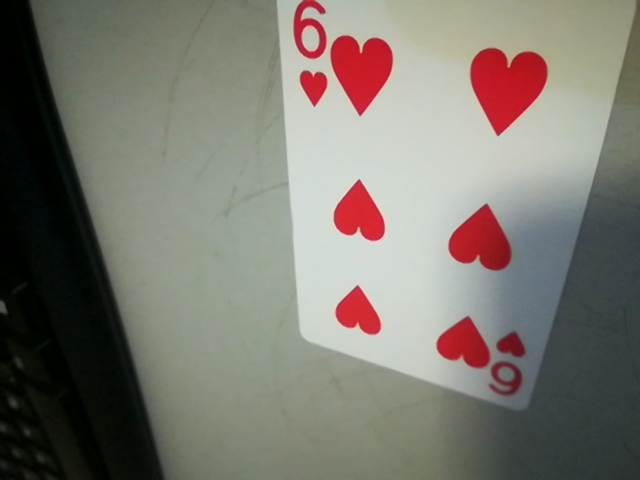hx 6: (281, 0, 332, 114), (481, 327, 537, 407)
